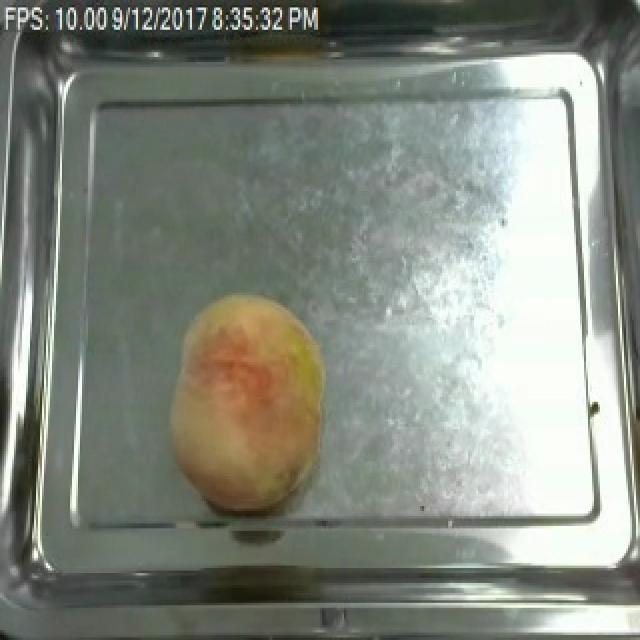Fruit: (164, 285, 336, 516)
